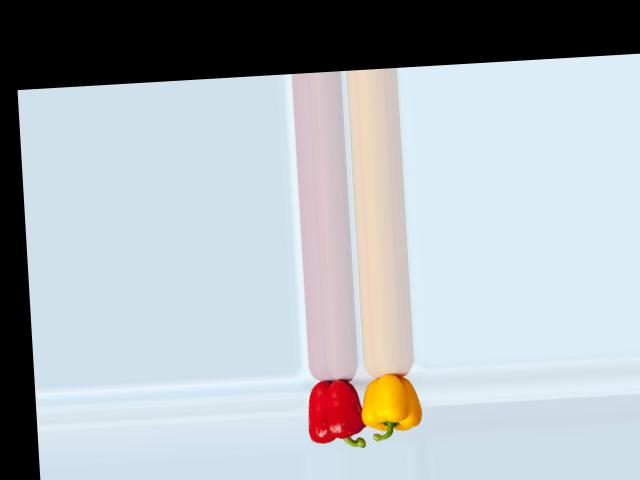bell_pepper: (300, 370, 367, 448)
